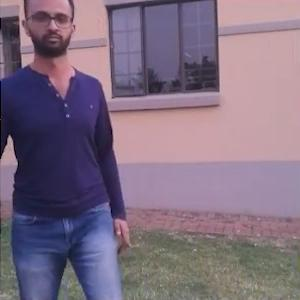follow: (0, 0, 133, 299)
